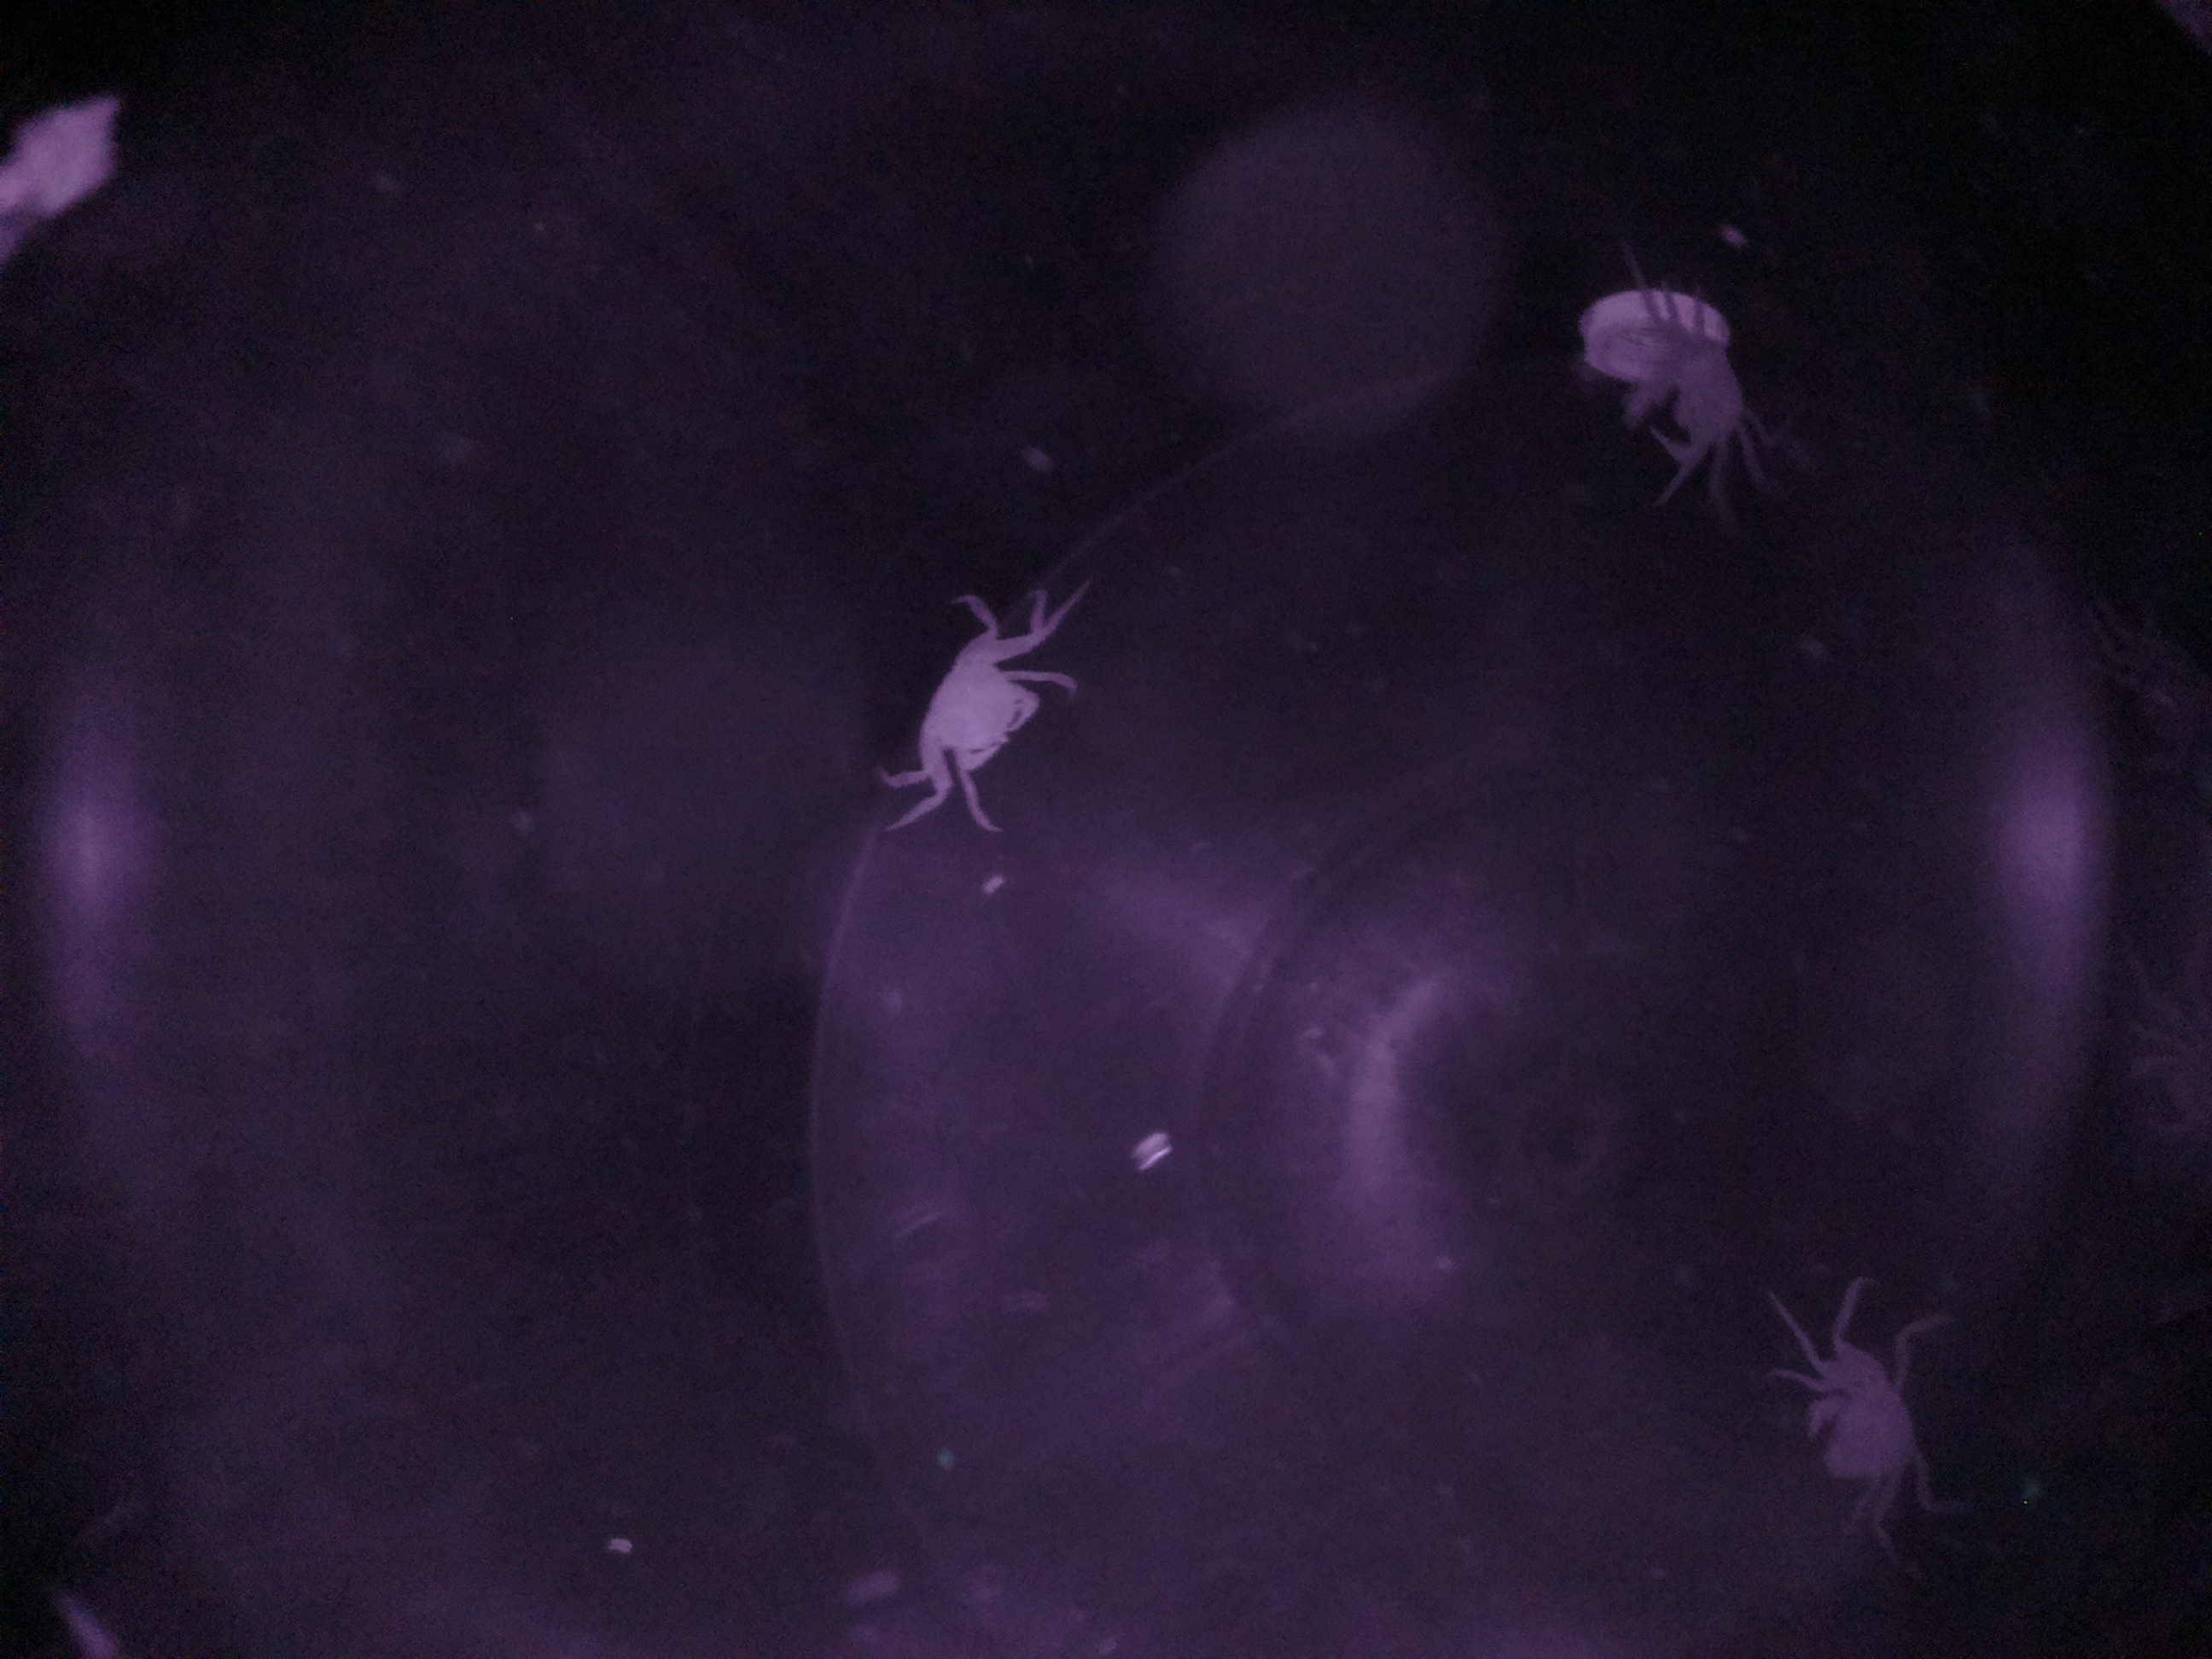Crab: (881, 608, 1073, 800), (1782, 1323, 1937, 1540), (1606, 319, 1787, 483)
